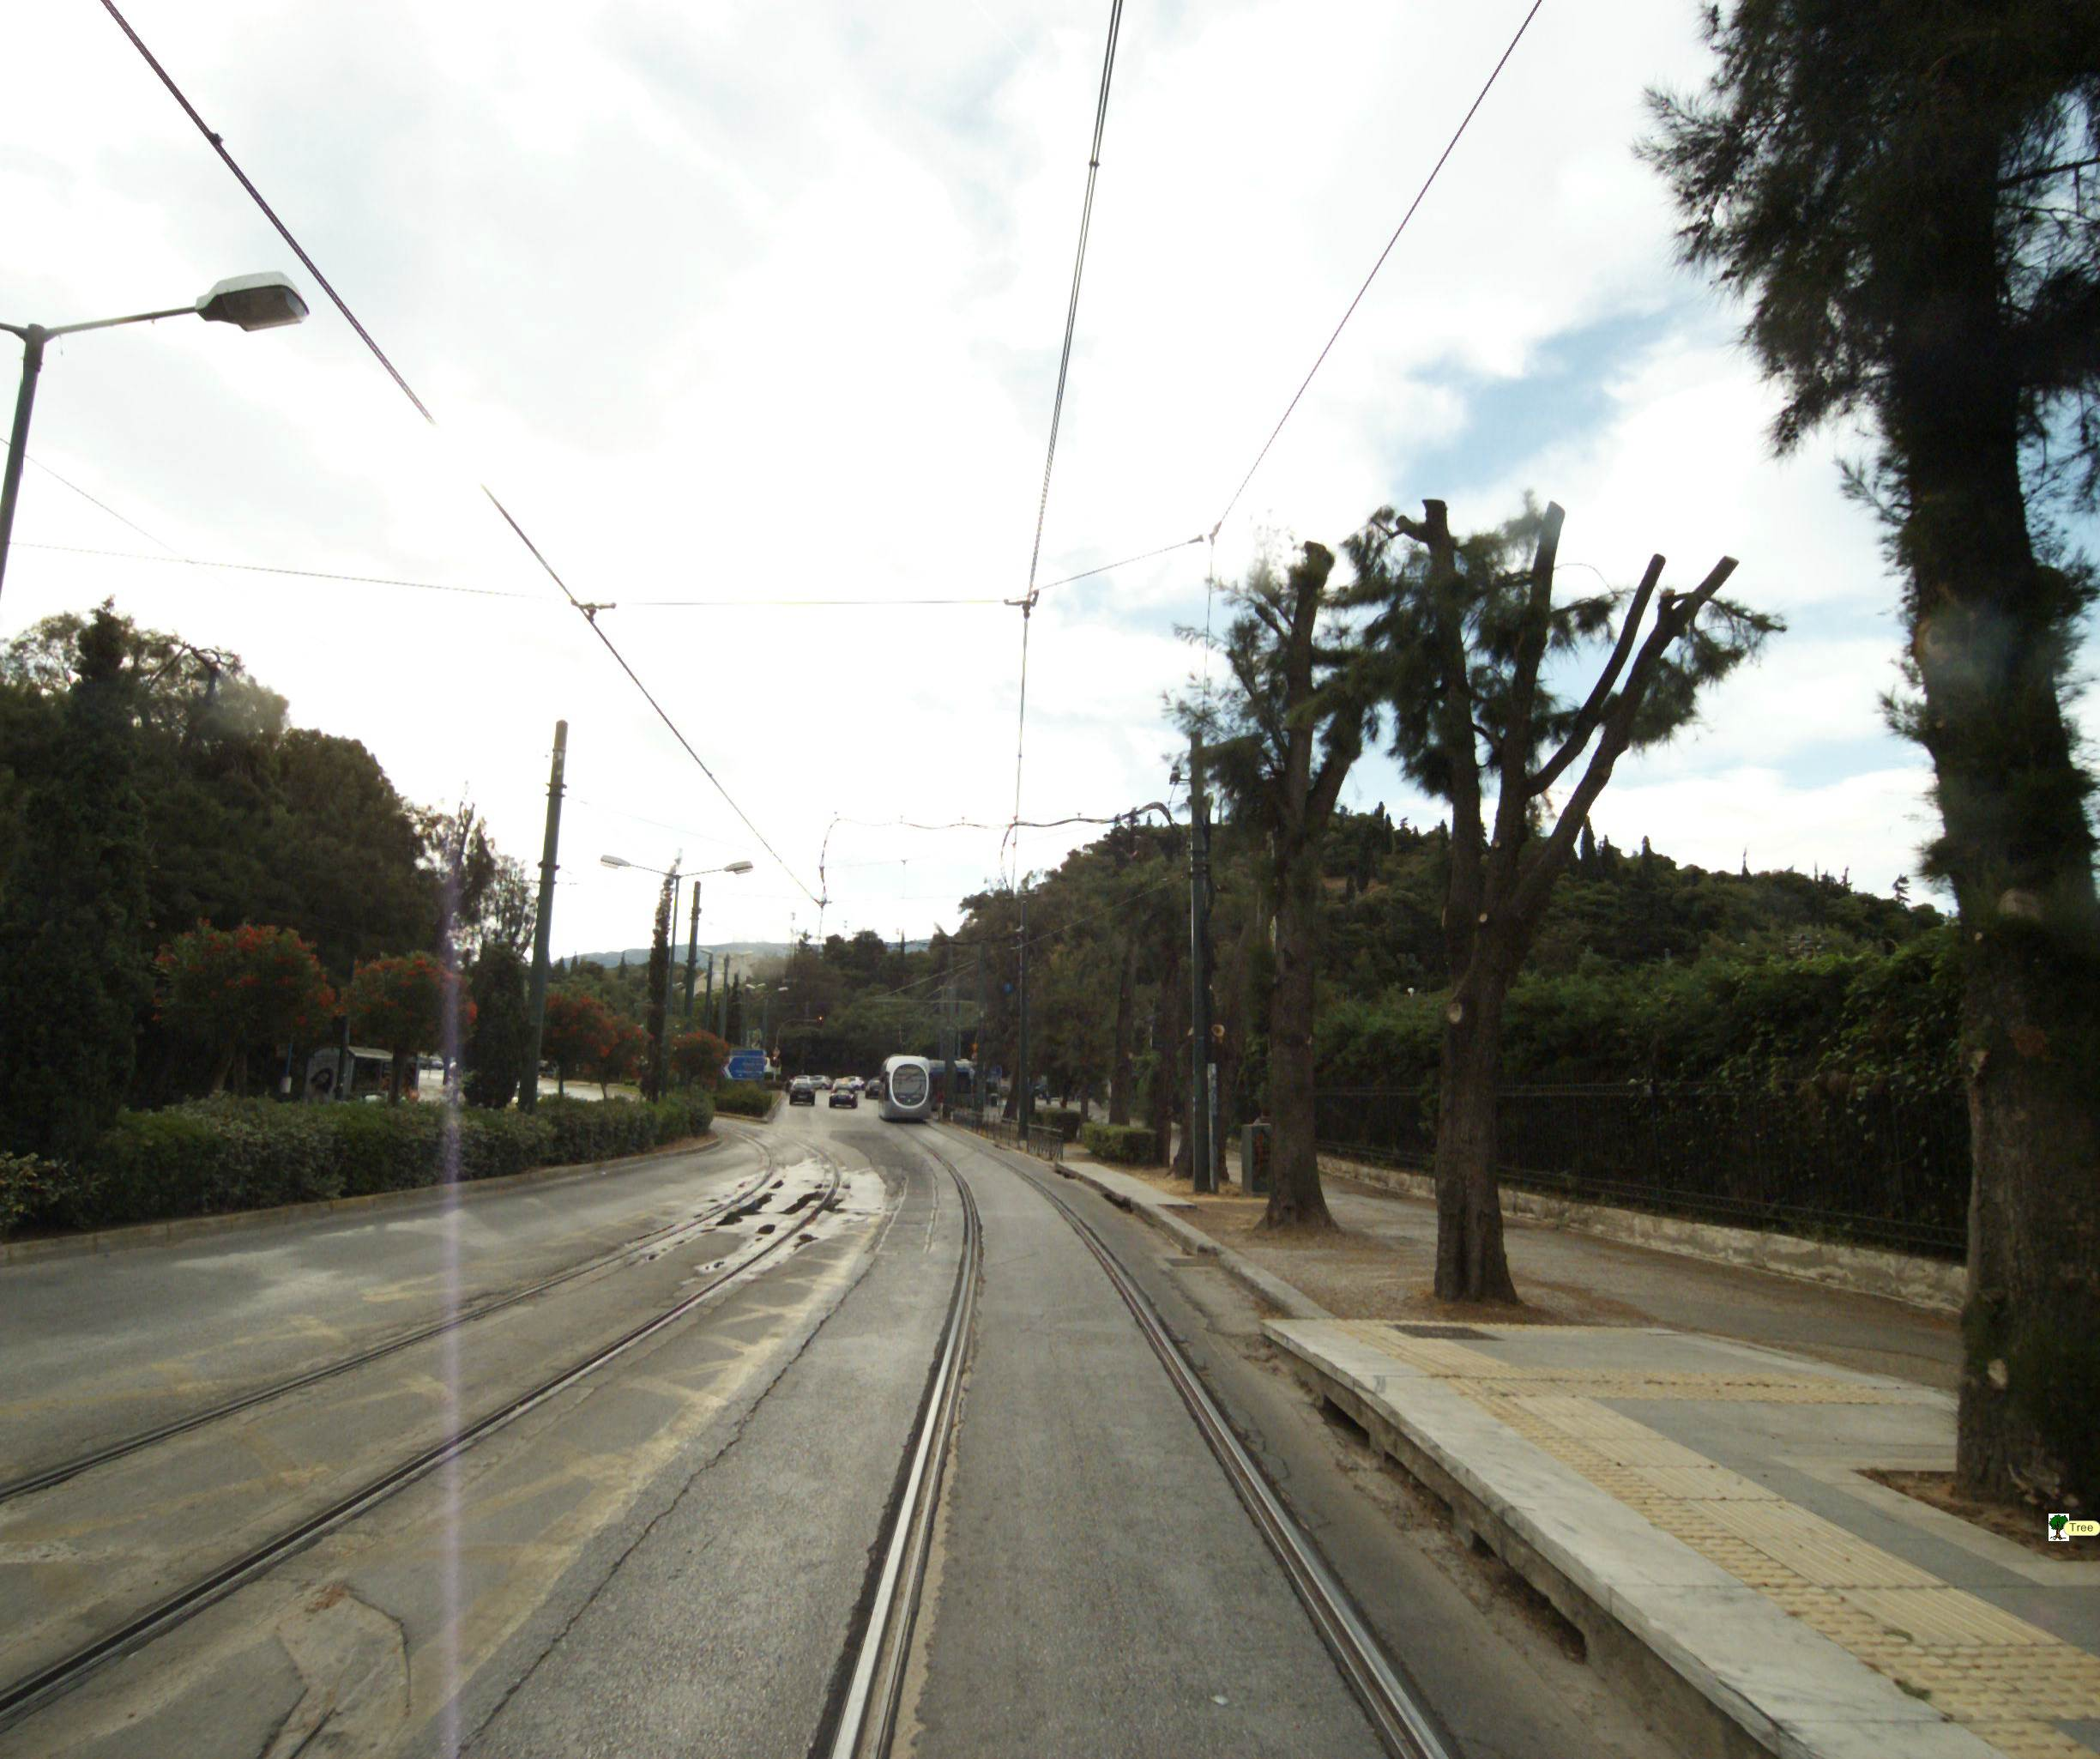tree: (1638, 5, 2100, 1513)
